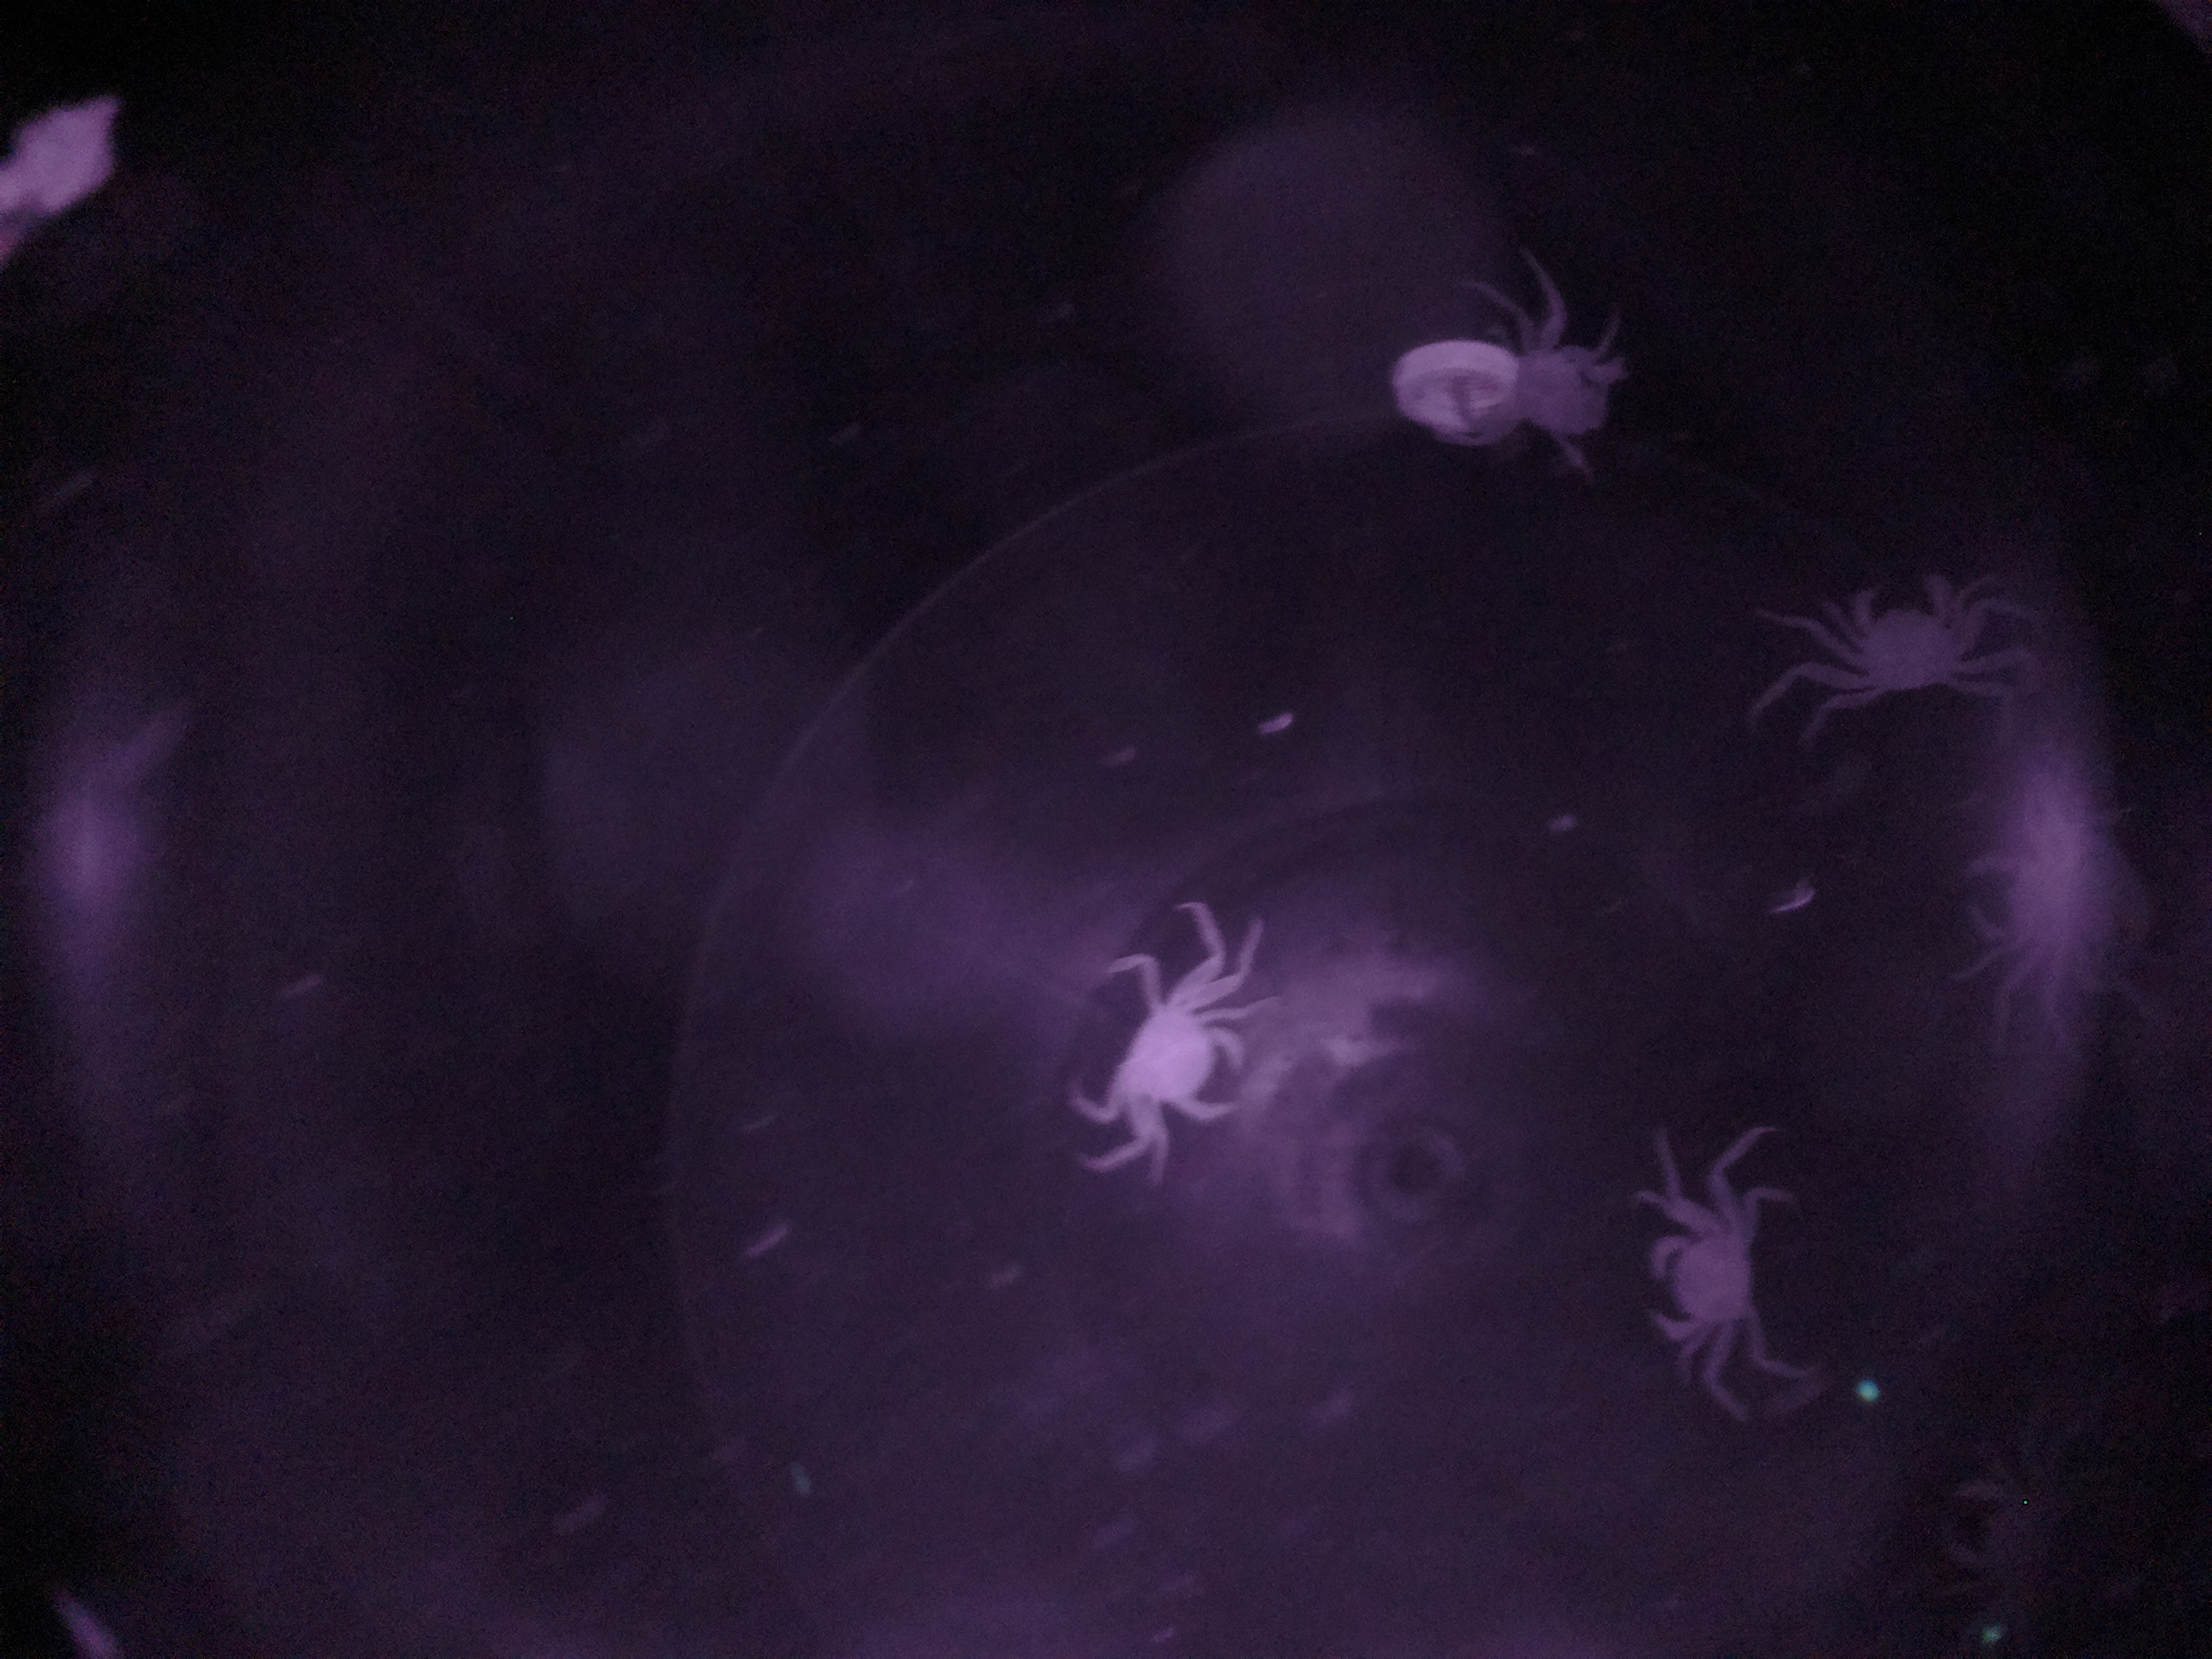Crab: (1066, 931, 1259, 1150), (1829, 538, 2005, 732), (1634, 1143, 1784, 1370)
